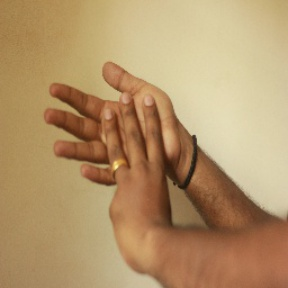M: (44, 58, 194, 228)
